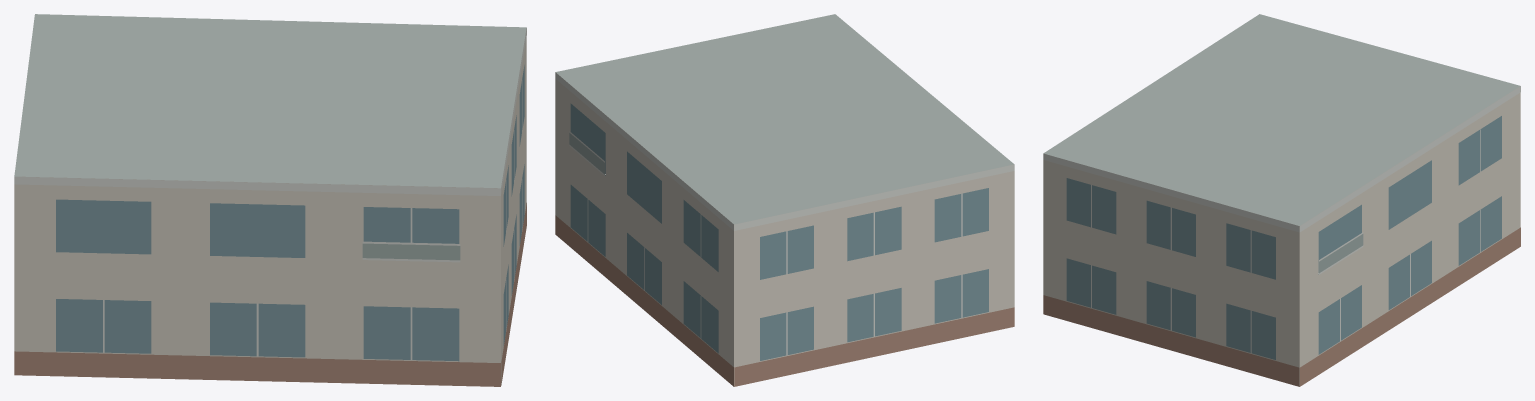
File: survey-upis-32891176.glb
3 renders of one model, left to right at view 1: azimuth 30°, elevation 25°; view 2: azimuth 150°, elevation 25°; view 3: azimuth 270°, elevation 25°, orthographic. The views are drawn at different scales.
Visible parts, largest first — view 1: survey-upis-32891176.tmp; view 2: survey-upis-32891176.tmp; view 3: survey-upis-32891176.tmp.
Boxes of the visible parts, box(x1,y1,x2,y2) form: survey-upis-32891176.tmp: box(14, 14, 526, 386); survey-upis-32891176.tmp: box(555, 14, 1014, 386); survey-upis-32891176.tmp: box(1043, 14, 1520, 386).
Size of the model in its own units: 17.27 by 6.1 by 16.43.
